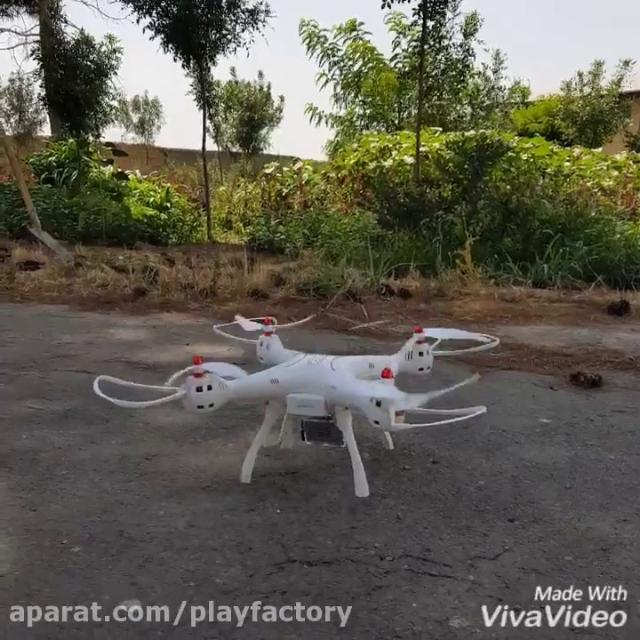drone: (91, 314, 501, 494)
